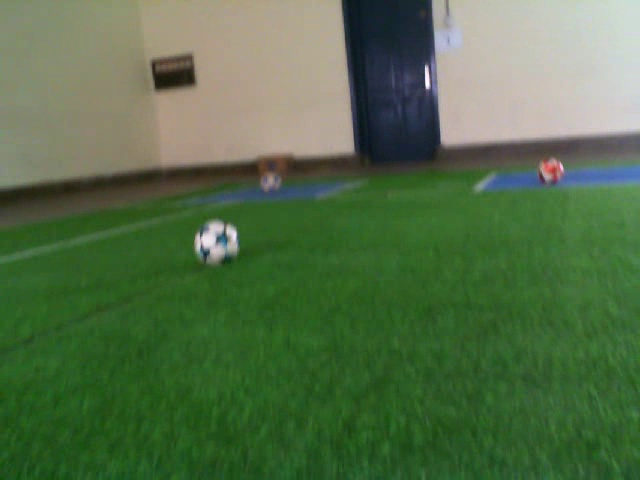ball: (192, 216, 243, 268), (535, 156, 567, 188), (258, 167, 285, 195)
